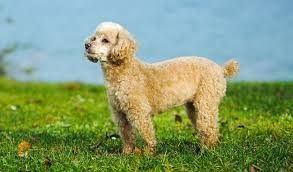Poodle: (76, 16, 254, 161)
